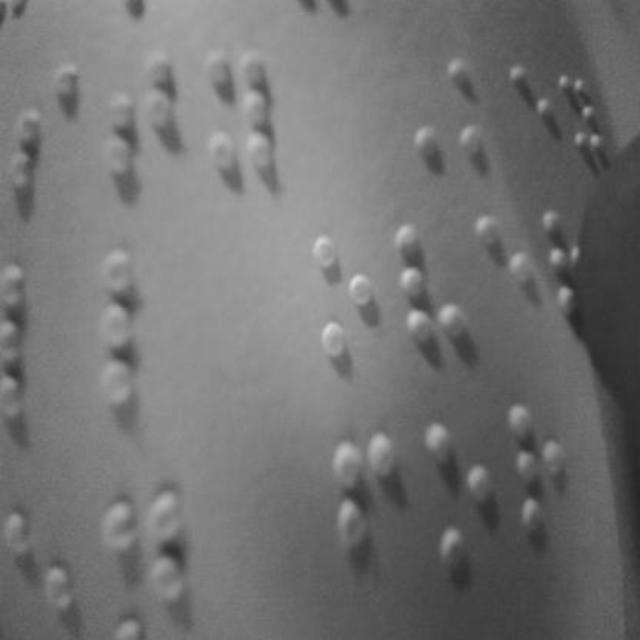braiile: (90, 248, 180, 408), (0, 266, 86, 416), (315, 434, 395, 588), (0, 54, 84, 200), (420, 419, 490, 577), (304, 221, 378, 365), (106, 46, 178, 190), (202, 42, 274, 176), (396, 224, 468, 356), (504, 399, 568, 539), (476, 212, 540, 352), (448, 39, 512, 169)
